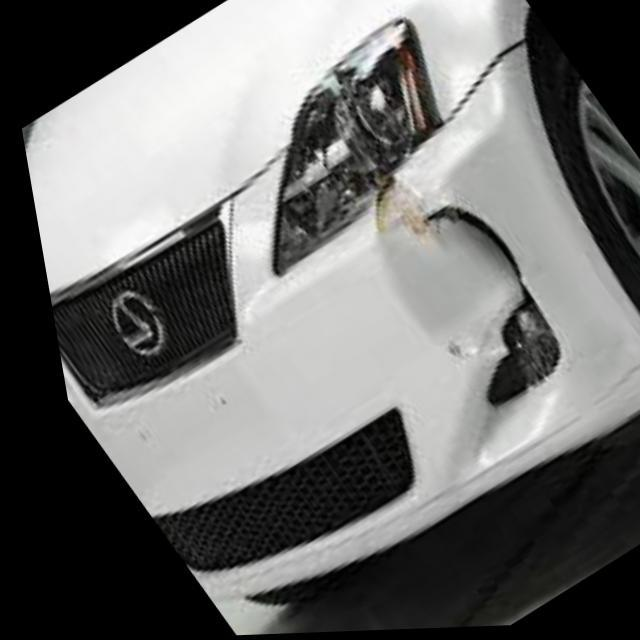crack: (420, 210, 546, 410)
dent: (348, 0, 546, 380)
